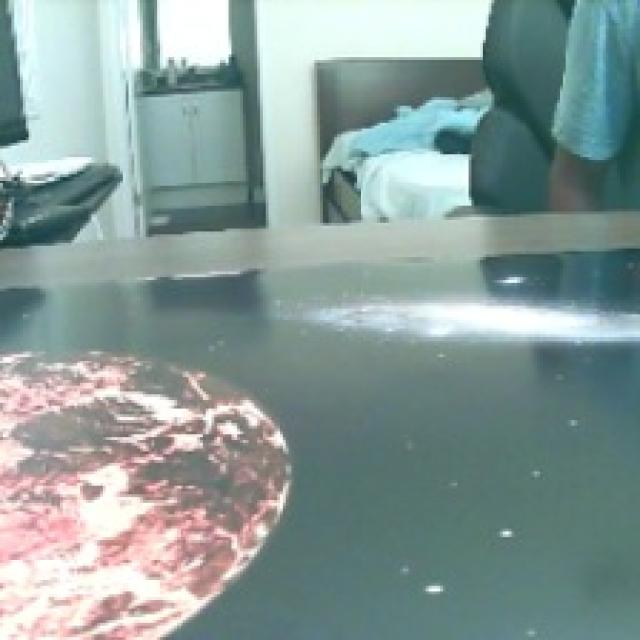Galaxy: (280, 292, 640, 347)
Sun: (0, 350, 293, 640)
